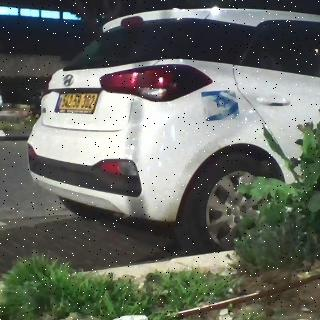LicensePlate: (60, 94, 98, 109)
